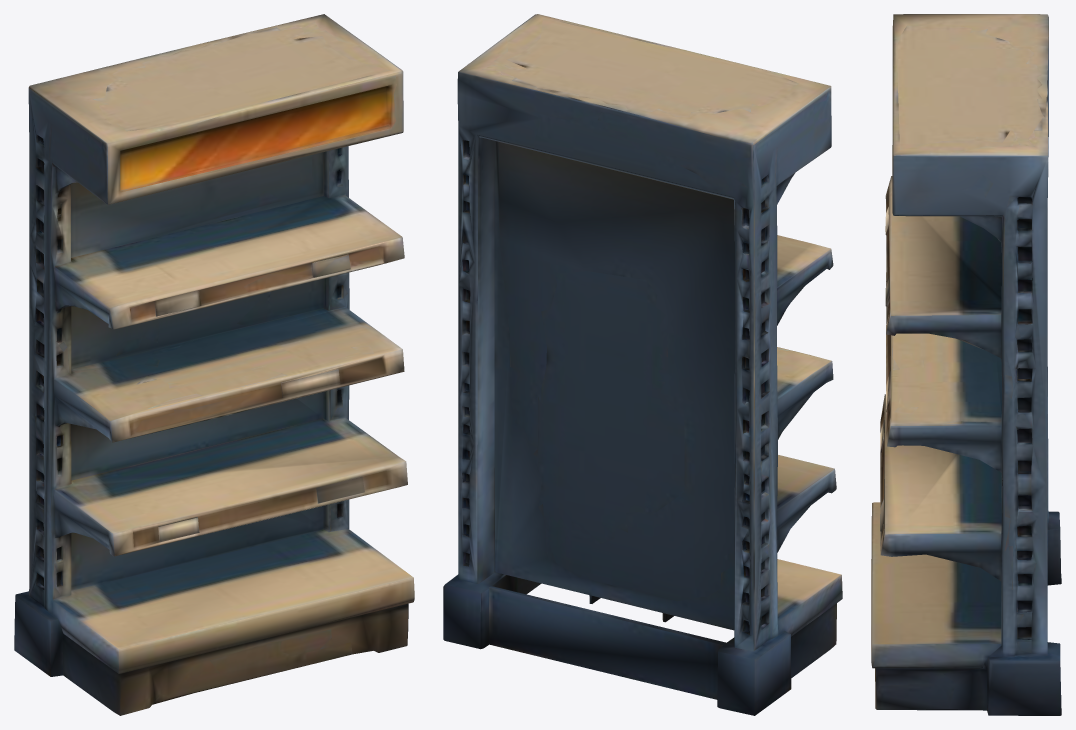
The model's file is huojia-1.glb.
3 renders of one model, left to right at view 1: azimuth 30°, elevation 25°; view 2: azimuth 150°, elevation 25°; view 3: azimuth 270°, elevation 25°, orthographic.
Parts seen in each view (by area): view 1: node_0; view 2: node_0; view 3: node_0.
Boxes of the visible parts, x1,y1,x2,y2 form: node_0: (14,14,414,715); node_0: (443,14,842,715); node_0: (871,14,1061,715).
Bounding box in the file's own units: 0.5822 × 1.01 × 0.312.
Materials: 1 (1 with a texture image).
